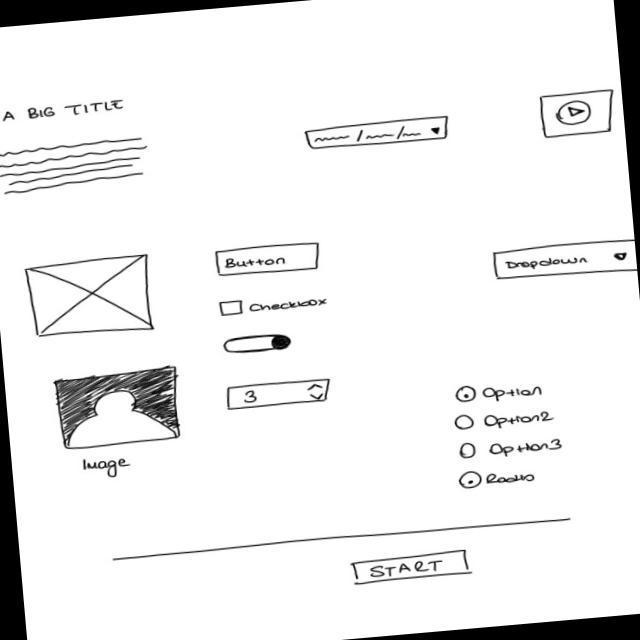button: (346, 544, 474, 586), (210, 237, 324, 280)
checkbox: (216, 290, 332, 318)
image: (21, 250, 156, 343), (52, 361, 186, 452)
label: (0, 94, 128, 127), (80, 451, 134, 480)
number-input: (222, 374, 334, 414)
radio: (457, 431, 566, 464), (450, 404, 558, 434), (452, 462, 541, 492), (452, 378, 544, 407)
select: (488, 233, 637, 285), (302, 112, 453, 153)
textbox: (0, 133, 151, 197)
toggle: (218, 329, 294, 357)
